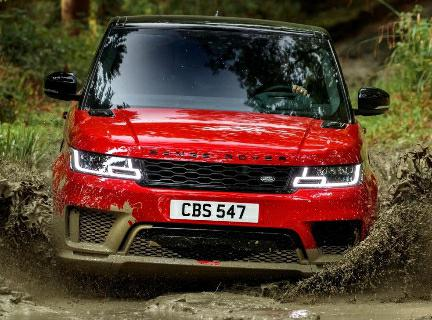路虎-揽胜运动版: (52, 8, 386, 293)
